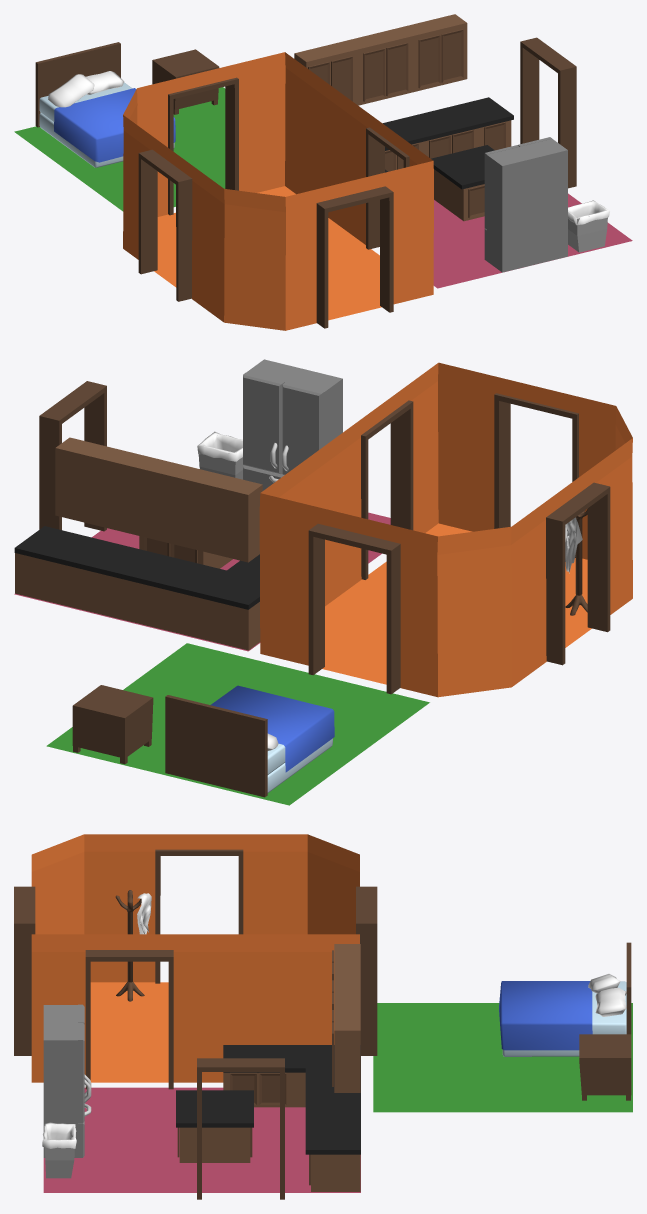
The model's file is world_test.glb.
3 views of the same model, one above another, from view 1: azimuth 30°, elevation 25°; view 2: azimuth 150°, elevation 25°; view 3: azimuth 270°, elevation 25° (orthographic). The views are drawn at different scales.
Parts seen in each view (by area): view 1: World; view 2: World; view 3: World.
Part boxes in pixels (box(x1,y1,x2,y2)): World: box(14, 14, 632, 330); World: box(14, 359, 632, 805); World: box(14, 834, 632, 1199).
Bounding box in the file's own units: 22.04 × 6.8 × 25.61.
Materials: 1 (1 with a texture image).
